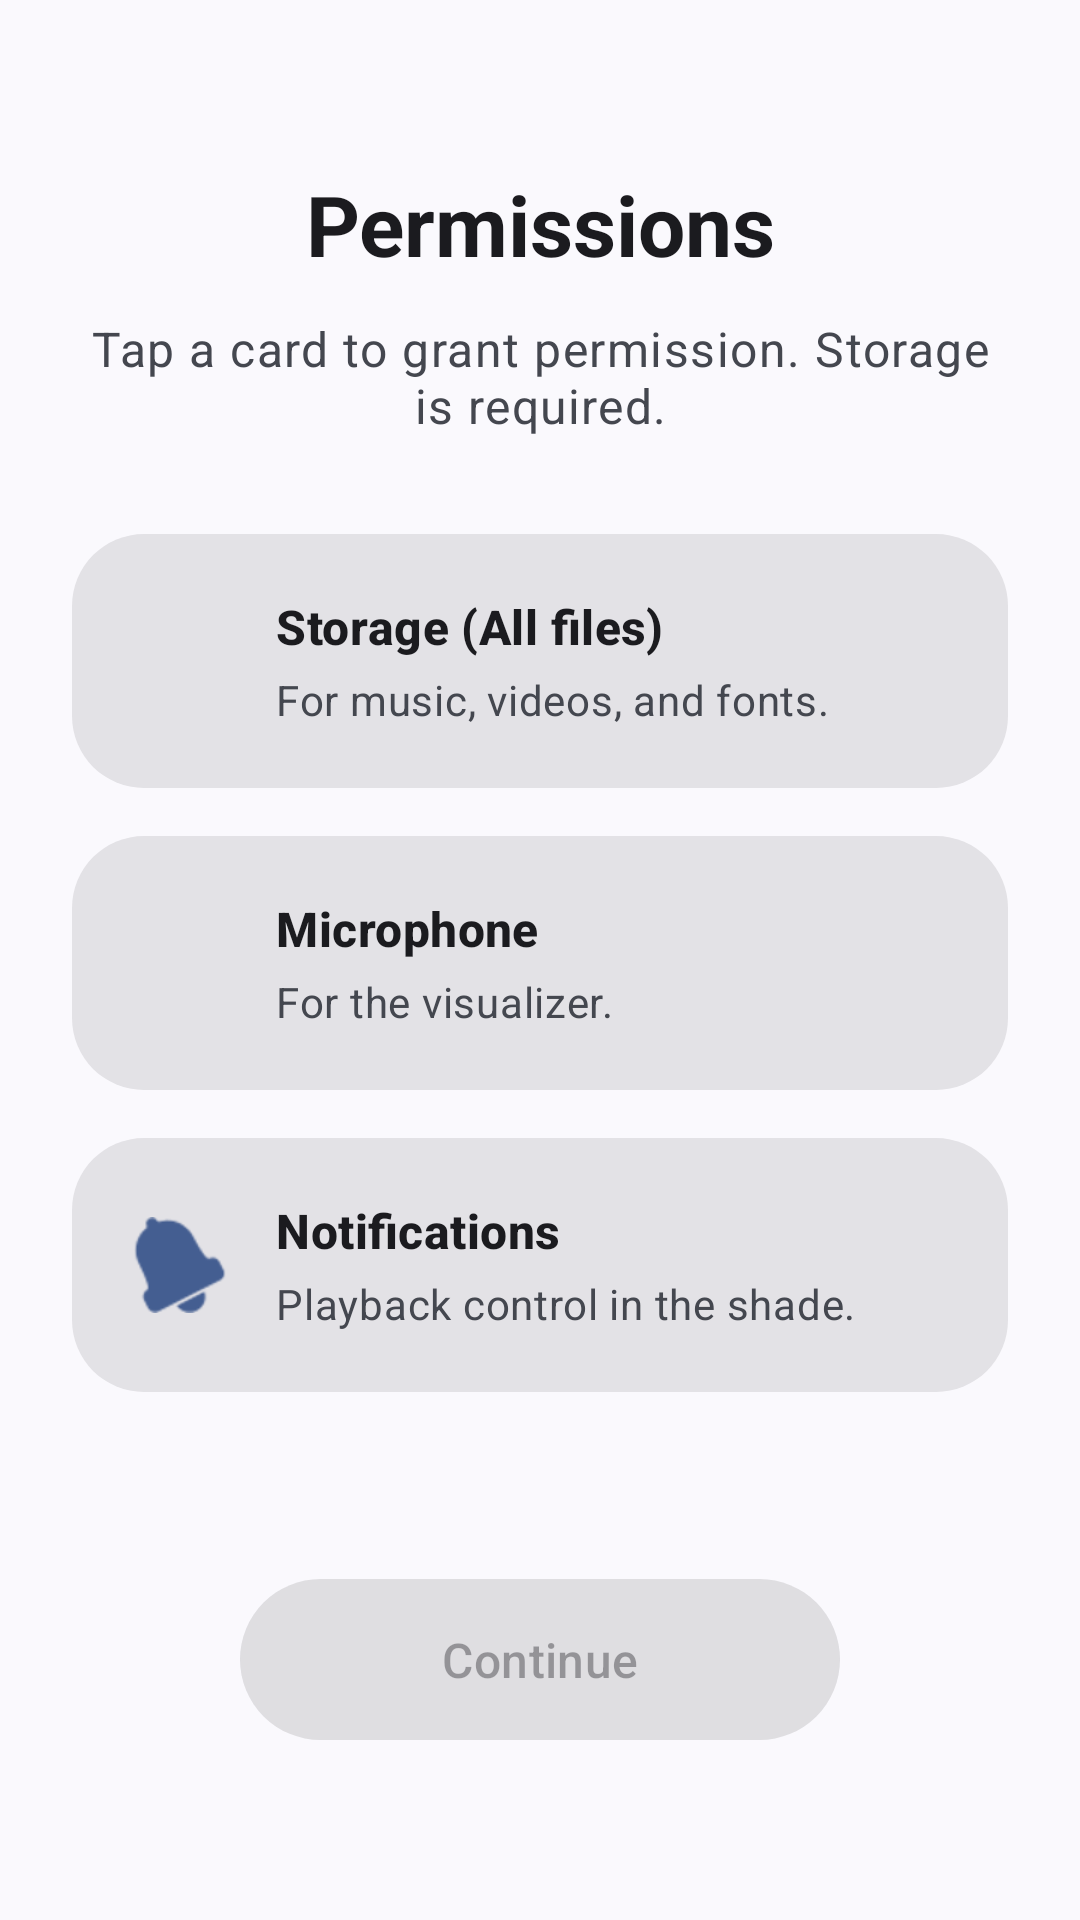

Icon bounding boxes for this 1080w x 1920h phone screenshot, format (x1, y1, x2, y2):
popup reminder: (135, 1217, 225, 1313)
